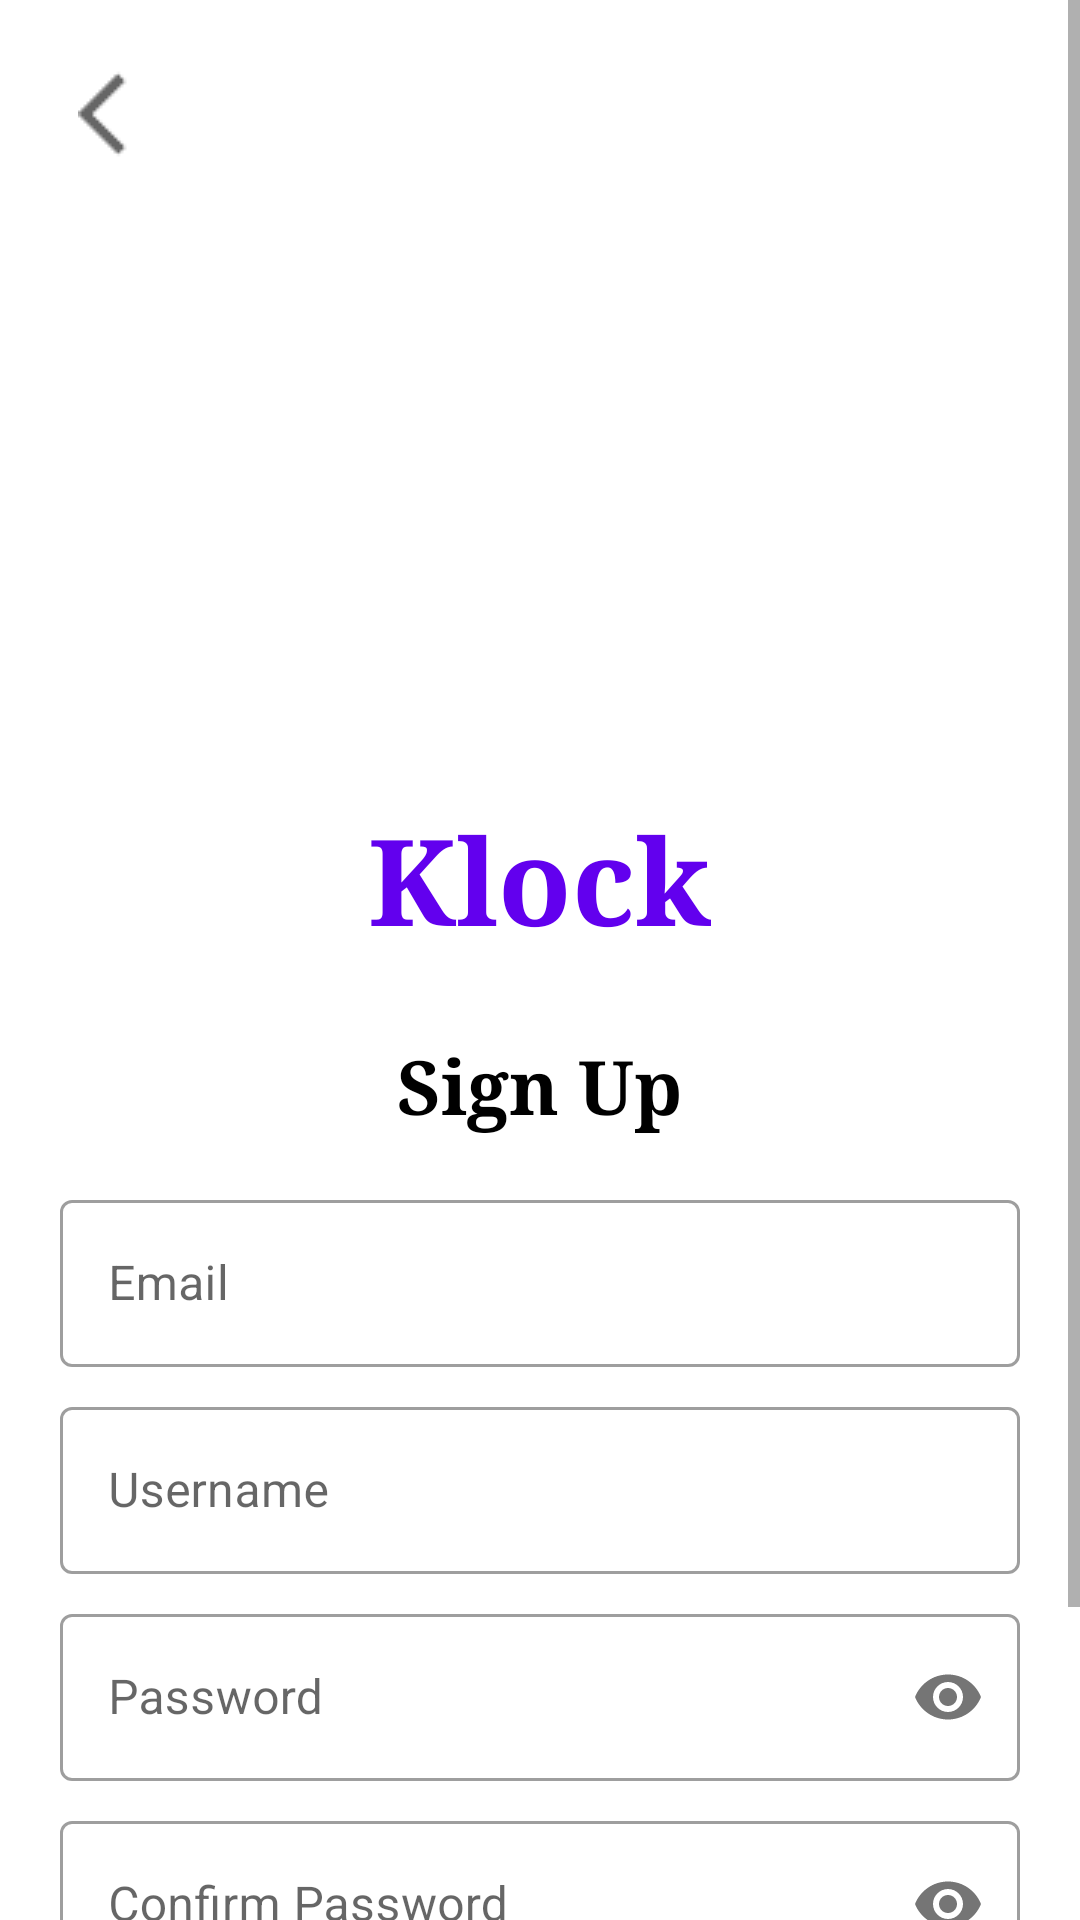

Where to tap for icons on this 1080*1920 app screen, as (x,y):
arrowleft: (102,114)
